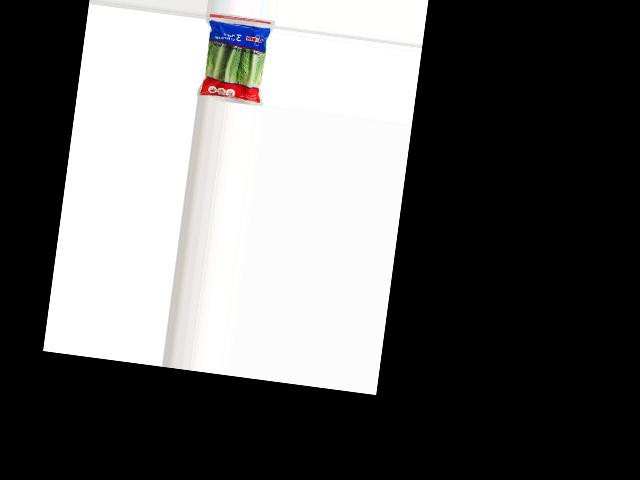lettuce: (198, 18, 271, 106)
